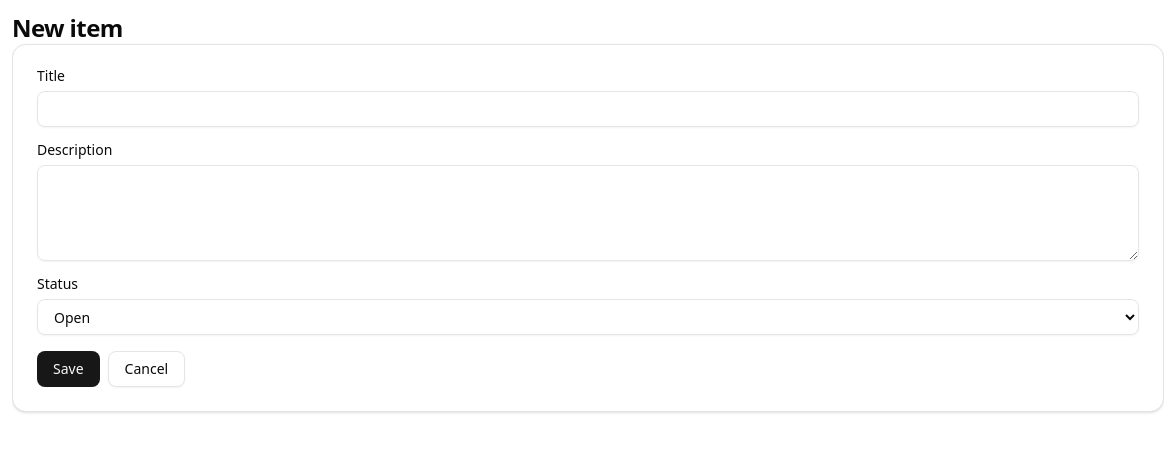
Scenario: ModuleForm (items) › a server 422 lands on the field
The width and height of the screenshot is (1164, 454).
Type "   x" into the field labelled "Title" at [588, 109], box left=37, top=91, right=1139, bottom=127
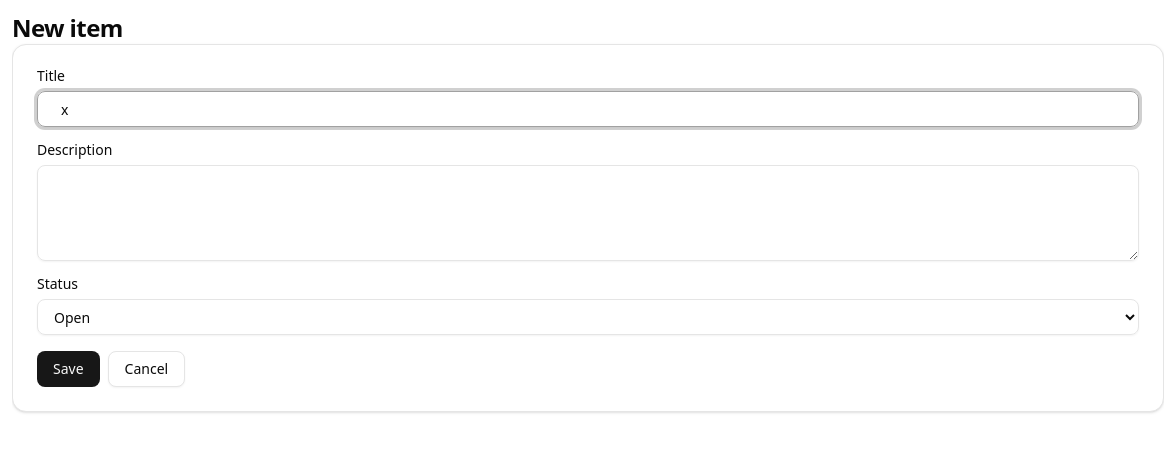
Click the button "Save" at [68, 369], box left=37, top=351, right=100, bottom=387
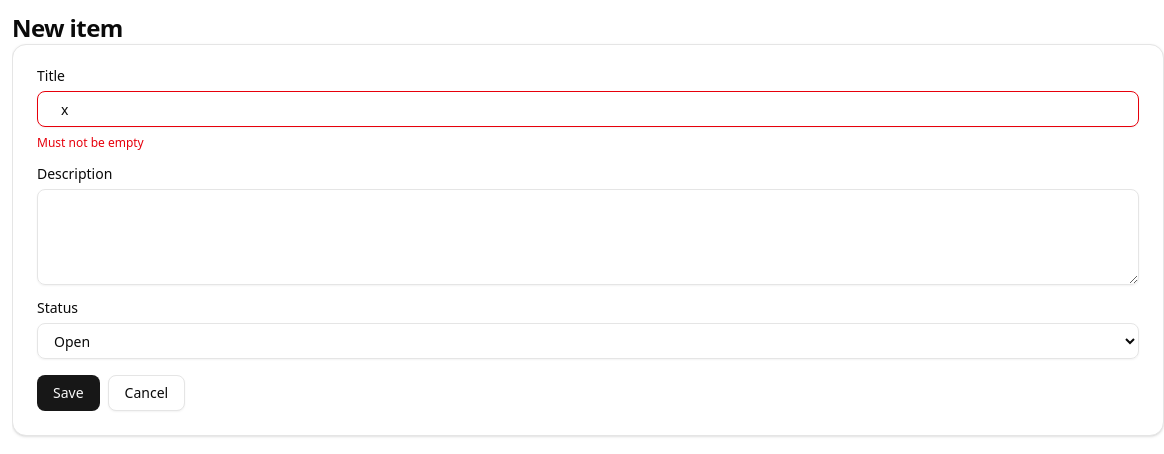
Now the text "Must not be empty" is shown, box left=37, top=134, right=144, bottom=151
